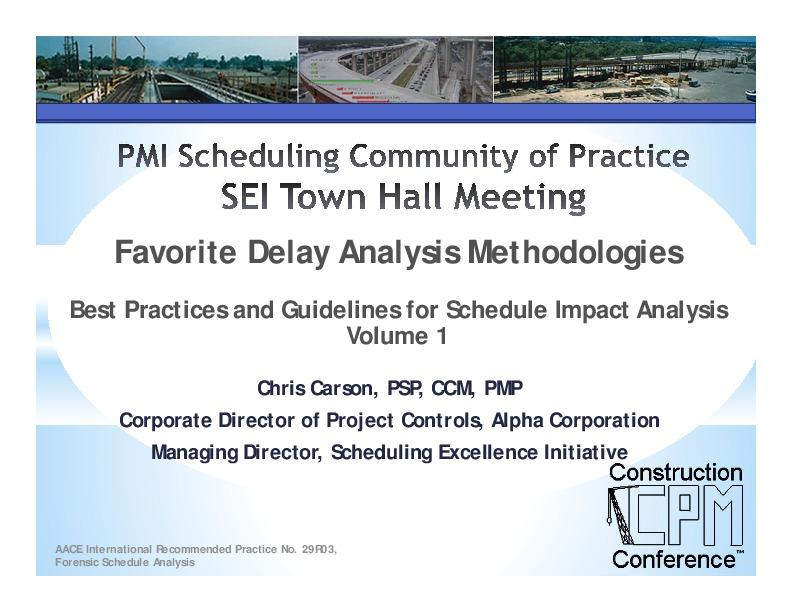subtitle: (65, 293, 771, 464), (47, 530, 358, 579)
title: (99, 136, 709, 275)
